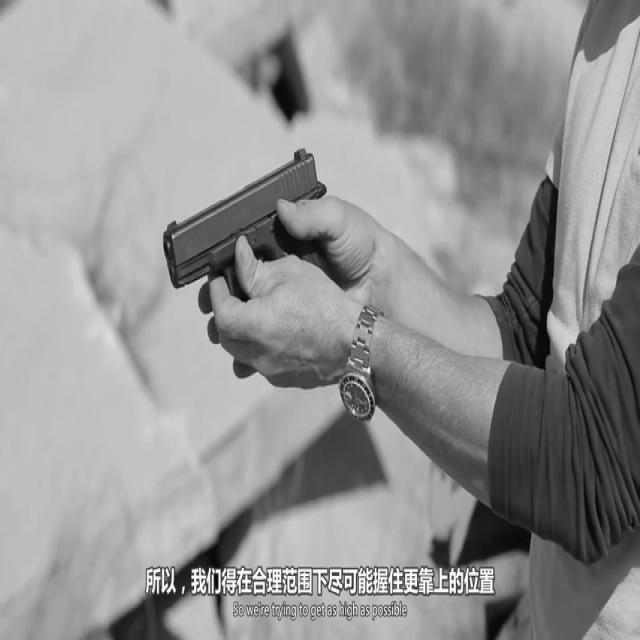Hand-Gun: (126, 118, 414, 508)
